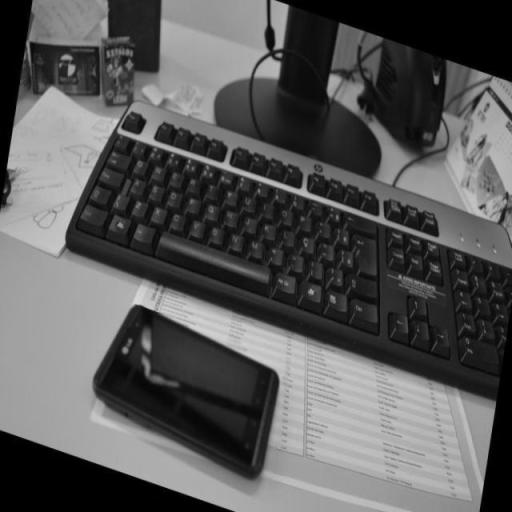phone: (80, 301, 291, 488)
